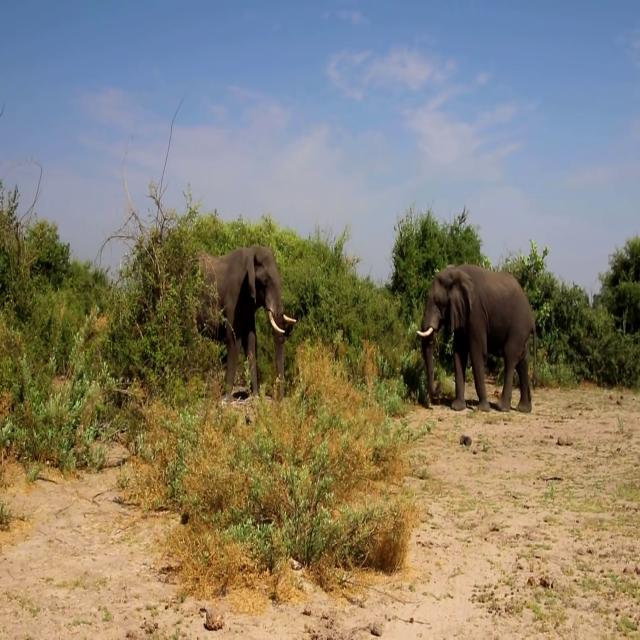Elephant: (416, 263, 537, 413), (194, 244, 297, 401)
